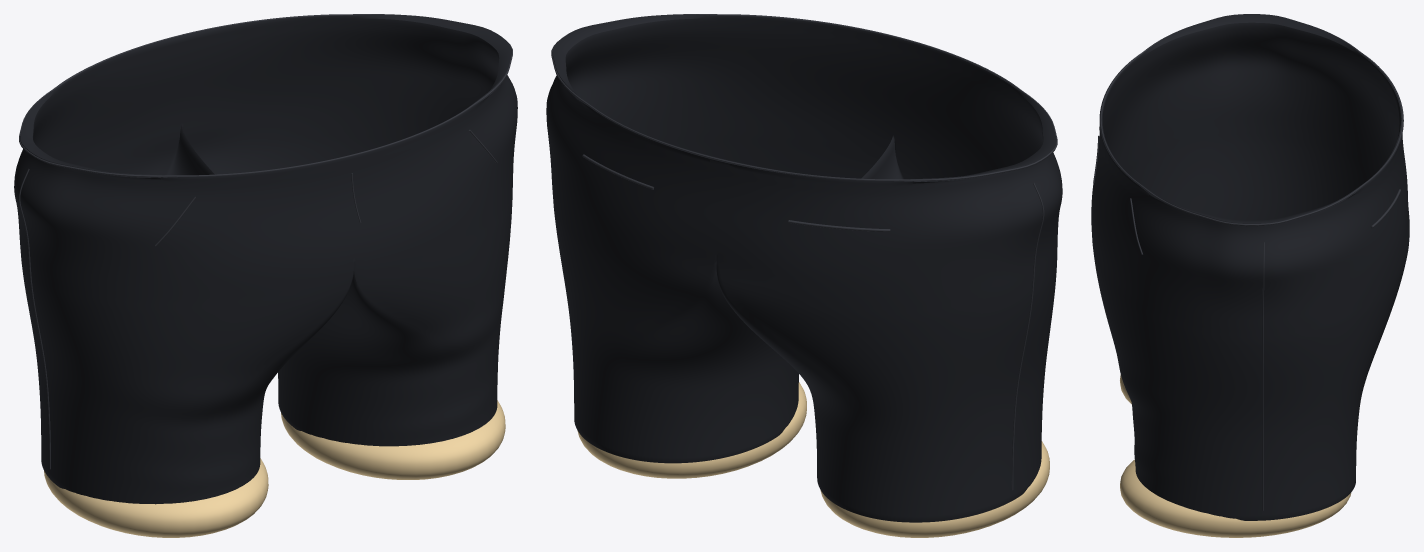
The model's file is Masculine-pants-bottom.glb.
3 views of the same model, side by side, from view 1: azimuth 30°, elevation 25°; view 2: azimuth 150°, elevation 25°; view 3: azimuth 270°, elevation 25° (orthographic). The views are drawn at different scales.
Parts seen in each view (by area): view 1: Bottom / continuous pants187, Skin / pants foot187 -1, Skin / pants foot187 1, Bottom / pants hem187 0 export, Bottom / side seam187 -1 export; view 2: Bottom / continuous pants187, Skin / pants foot187 -1, Skin / pants foot187 1, Bottom / pants hem187 0 export, Bottom / side seam187 -1 export; view 3: Bottom / continuous pants187, Skin / pants foot187 1, Bottom / pants hem187 0 export, Bottom / side seam187 1 export.
Part boxes in pixels (x1,y1,x2,y2): Bottom / continuous pants187: (14, 14, 517, 504); Skin / pants foot187 -1: (44, 458, 268, 537); Skin / pants foot187 1: (281, 400, 505, 479); Bottom / pants hem187 0 export: (19, 14, 512, 177); Bottom / side seam187 -1 export: (19, 169, 50, 469); Bottom / continuous pants187: (546, 14, 1062, 522); Skin / pants foot187 -1: (820, 441, 1049, 537); Skin / pants foot187 1: (577, 382, 806, 478); Bottom / pants hem187 0 export: (551, 14, 1057, 181); Bottom / side seam187 -1 export: (1011, 183, 1044, 490); Bottom / continuous pants187: (1091, 14, 1409, 520); Skin / pants foot187 1: (1120, 459, 1351, 537); Bottom / pants hem187 0 export: (1100, 34, 1403, 225); Bottom / side seam187 1 export: (1262, 242, 1264, 510).
Size of the model in its own units: 0.6696 by 0.502 by 0.4217.
